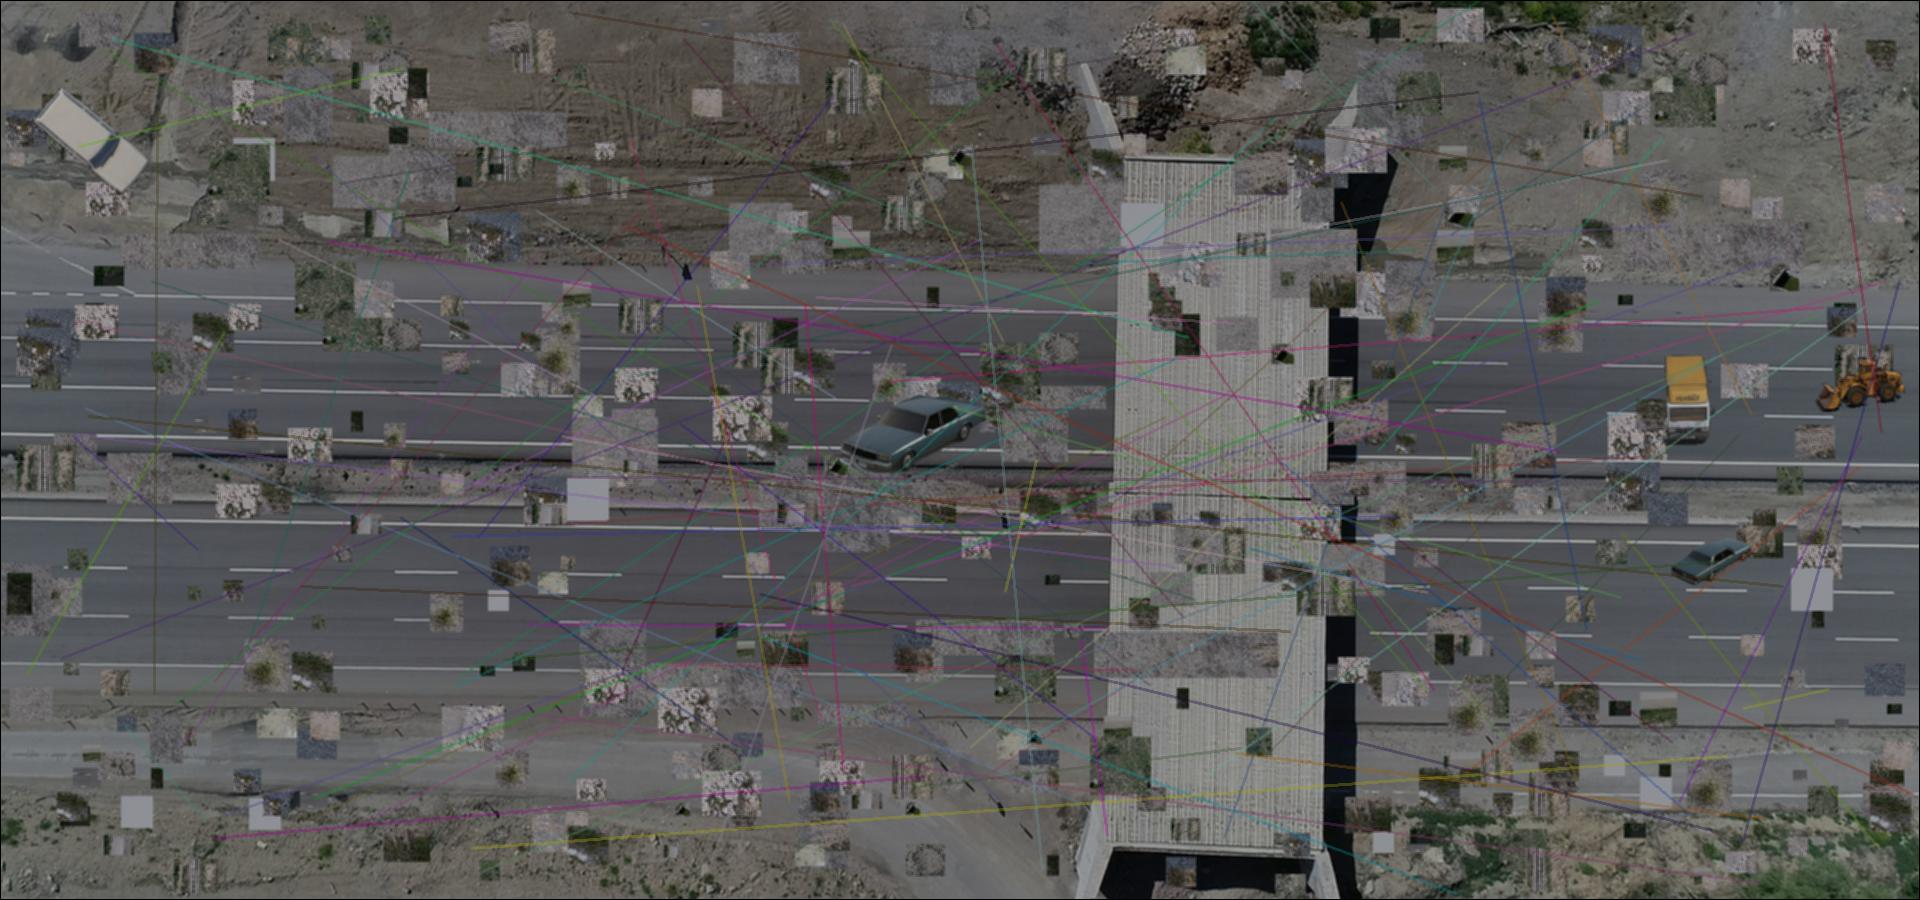arac: (31, 84, 149, 193), (841, 394, 988, 474), (1813, 353, 1908, 411), (1663, 353, 1717, 444), (1667, 538, 1753, 585)
